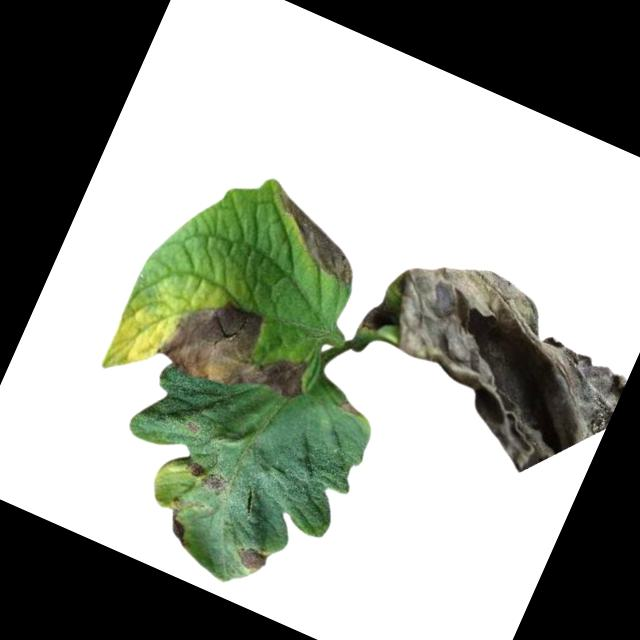Early_blight: (331, 231, 640, 498), (151, 280, 323, 421), (254, 185, 375, 289), (180, 457, 231, 499), (160, 505, 198, 546), (231, 540, 272, 576), (335, 396, 364, 420), (182, 419, 202, 438)
